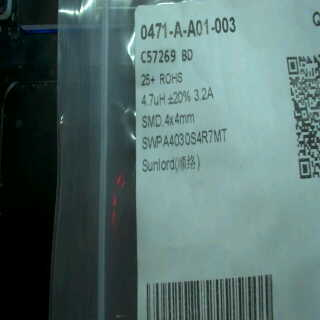4.7uH: (140, 89, 168, 108)
